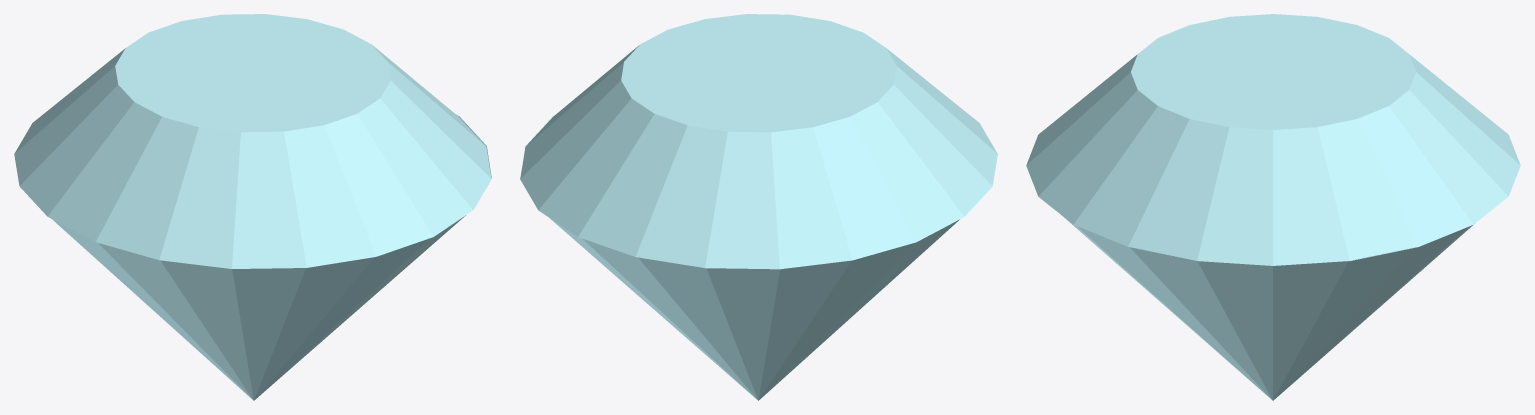
File: mod_stone.fbx
3 renders of one model, left to right at view 1: azimuth 30°, elevation 25°; view 2: azimuth 150°, elevation 25°; view 3: azimuth 270°, elevation 25°, orthographic.
Parts seen in each view (by area): view 1: pCylinder1, pCone1; view 2: pCylinder1, pCone1; view 3: pCylinder1, pCone1.
Boxes of the visible parts, <box> form: pCylinder1: <box>14,14,491,268</box>; pCone1: <box>52,114,491,400</box>; pCylinder1: <box>520,14,997,269</box>; pCone1: <box>520,114,959,400</box>; pCylinder1: <box>1026,14,1520,265</box>; pCone1: <box>1064,217,1472,400</box>.
Size of the model in its own units: 15.28 by 11.63 by 15.87.
